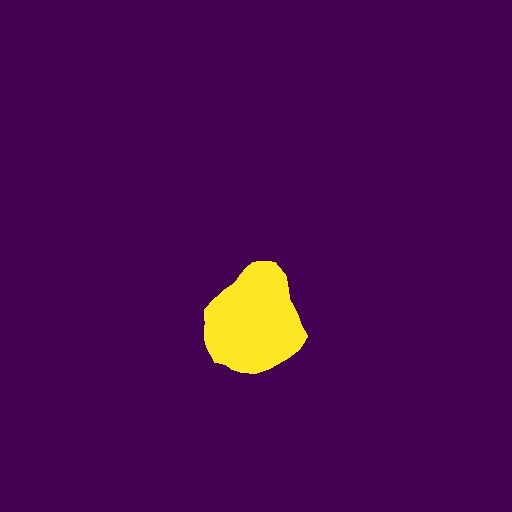Pituirity_tumour: (204, 261, 308, 374)
